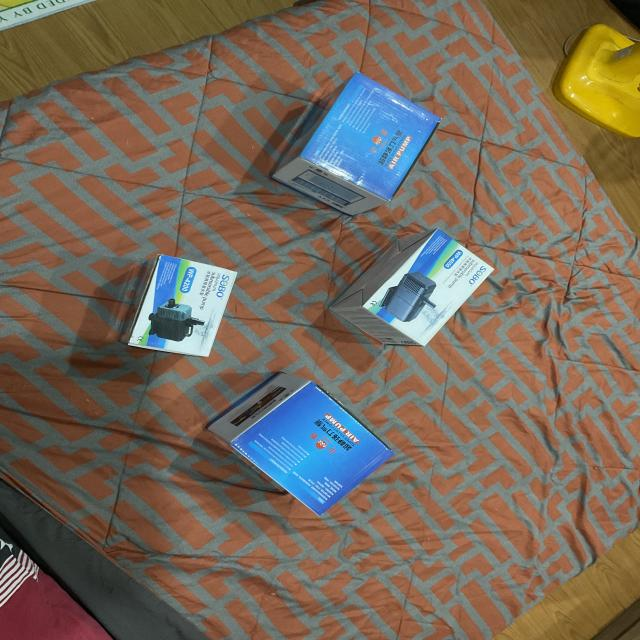SOBO_WP_4200: (327, 218, 504, 360), (108, 237, 251, 368)
YAMANO_LPP_20: (179, 362, 395, 522), (255, 70, 442, 218)
